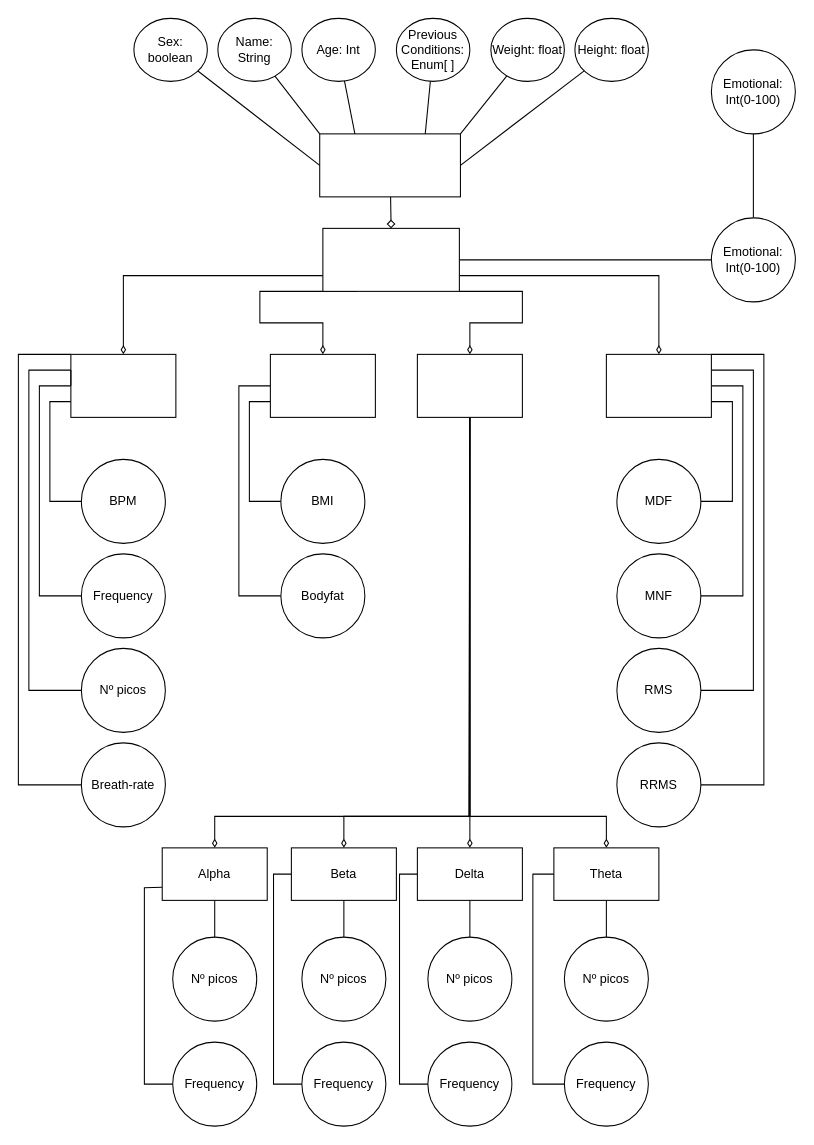
The diagram is 814 pixels wide and 1145 high, and some of its shapes have lost their labels. Each missing label, with the box of its shape:
CardioRespiratory: Int(0-100): (70, 353, 176, 417)
Cerebral activity: Int(0-100): (416, 353, 522, 417)
Fitness: Int(0-100): (269, 353, 375, 417)
Nervous and Muscular System: Int(0-100): (605, 353, 711, 417)
Profile: (319, 133, 460, 197)
Registers: (322, 227, 459, 291)
